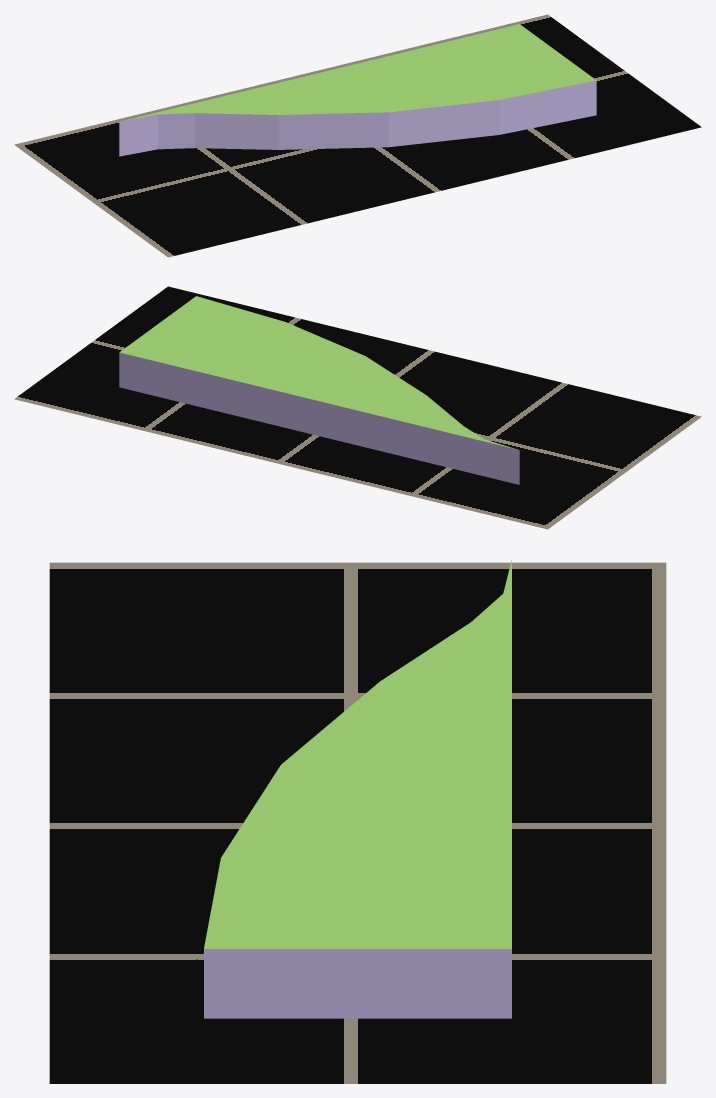
The model's file is Tiered_Grass_Esse_Inside_1x3.glb.
3 renders of one model, top to bottom at view 1: azimuth 30°, elevation 25°; view 2: azimuth 150°, elevation 25°; view 3: azimuth 270°, elevation 25°, orthographic. The views are drawn at different scales.
Visible parts, largest first — view 1: Floor, Tiered_Grass_Esse_Inside_1x3; view 2: Floor, Tiered_Grass_Esse_Inside_1x3; view 3: Floor, Tiered_Grass_Esse_Inside_1x3.
Part boxes in pixels (bbox=[...]): Floor: bbox=[14, 14, 701, 257]; Tiered_Grass_Esse_Inside_1x3: bbox=[119, 24, 596, 156]; Floor: bbox=[14, 286, 701, 529]; Tiered_Grass_Esse_Inside_1x3: bbox=[119, 296, 519, 484]; Floor: bbox=[49, 562, 666, 1083]; Tiered_Grass_Esse_Inside_1x3: bbox=[204, 559, 511, 1018].
Size of the model in its own units: 400 by 25 by 200.
4 materials, 1 textured.
